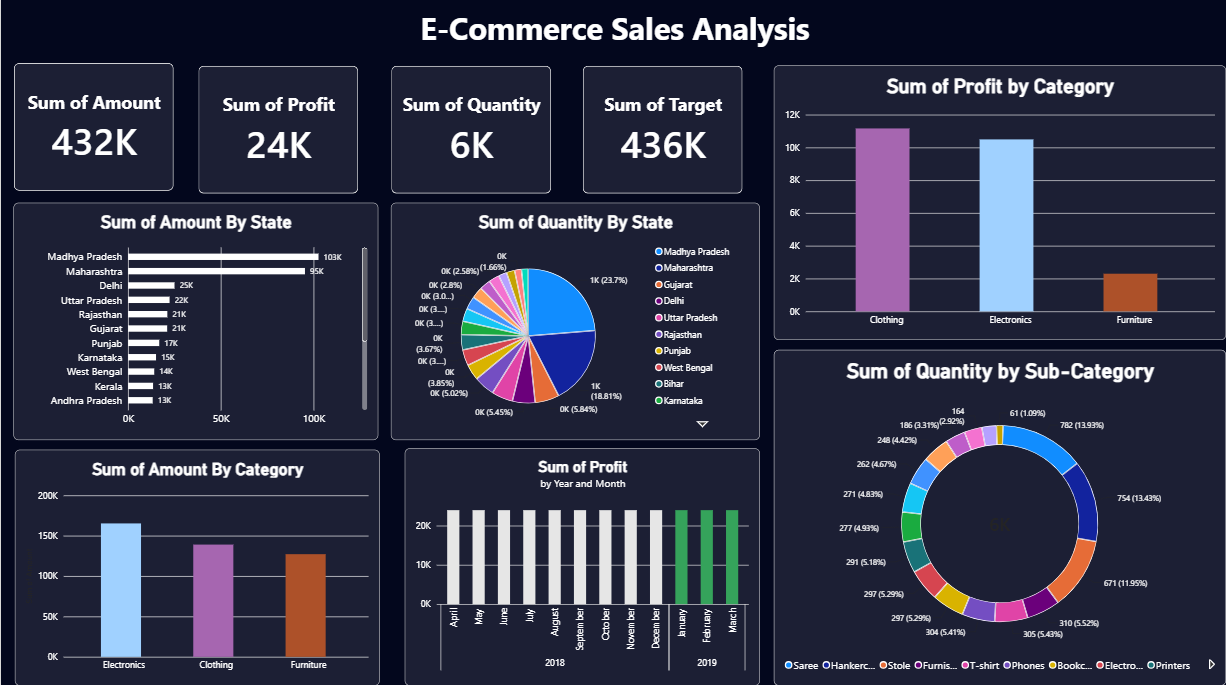

This screenshot's page, from the dashboard's own definition file:
{"tool":"powerbi","page":{"name":"Page 2","canvas":[1920,1080],"ordinal":1},"visuals":[{"type":"cardVisual","fields":{"Data":["Sum(Order Details cleaned.Amount)"]},"box":[19.6,104.3,252.2,202.2],"z":0},{"type":"cardVisual","fields":{"Data":["Sum(Order Details cleaned.Profit)"]},"box":[308.7,108.7,252.2,202.2],"z":1000},{"type":"cardVisual","fields":{"Data":["Sum(Order Details cleaned.Quantity)"]},"box":[610.9,108.7,252.2,202.2],"z":2000},{"type":"clusteredBarChart","title":"Sum of Amount By State","fields":{"Category":["Order Details cleaned.State"],"Y":["Sum(Order Details cleaned.Amount)"]},"box":[19.6,323.9,571.7,371.7],"z":3000},{"type":"clusteredColumnChart","title":"Sum of Amount By Category","fields":{"Category":["Order Details cleaned.Category"],"Y":["Sum(Order Details cleaned.Amount)"]},"box":[21.7,710.9,571.7,369.6],"z":4000},{"type":"donutChart","fields":{"Y":["Sum(Order Details cleaned.Quantity)"],"Category":["Order Details cleaned.Sub-Category"]},"box":[1210.9,554.3,708.7,526.1],"z":5000},{"type":"clusteredColumnChart","fields":{"Category":["Sales target Cleaned.Category"],"Y":["Sum(Order Details cleaned.Profit)"]},"box":[1210.9,108.7,708.7,430.4],"z":6000},{"type":"clusteredColumnChart","fields":{"Y":["Sum(Order Details cleaned.Profit)"],"Category":["Sales target Cleaned.Order_Month.Variation.Date Hierarchy.Year","Sales target Cleaned.Order_Month.Variation.Date Hierarchy.Month"]},"box":[632.6,708.7,556.5,371.7],"z":7000},{"type":"pieChart","title":"Sum of Quantity By State","fields":{"Y":["Sum(Order Details cleaned.Quantity)"],"Category":["lists of orders cleaned.State"]},"box":[610.9,323.9,578.3,371.7],"z":8000},{"type":"cardVisual","fields":{"Data":["Sum(Sales target Cleaned.Target)"]},"box":[910.9,108.7,252.2,202.2],"z":9000},{"type":"textbox","box":[100,17.4,1723.9,87],"z":10000}]}

Visuals, with their boxes in screenshot pixels (x1, y1, x2, y2), scaled from the page's 1920x1080 canvas onto the 1226x685 screenshot:
cardVisual - Sum(Order Details cleaned.Amount): 13 66 174 194
cardVisual - Sum(Order Details cleaned.Profit): 197 69 358 197
cardVisual - Sum(Order Details cleaned.Quantity): 390 69 551 197
"Sum of Amount By State" clusteredBarChart: 13 205 378 441
"Sum of Amount By Category" clusteredColumnChart: 14 451 379 684
donutChart - Sum(Order Details cleaned.Quantity) x Order Details cleaned.Sub-Category: 773 352 1225 684
clusteredColumnChart - Sales target Cleaned.Category x Sum(Order Details cleaned.Profit): 773 69 1225 342
clusteredColumnChart - Sum(Order Details cleaned.Profit) x Sales target Cleaned.Order_Month.Variation.Date Hierarchy.Year: 404 449 759 684
"Sum of Quantity By State" pieChart: 390 205 759 441
cardVisual - Sum(Sales target Cleaned.Target): 582 69 743 197
textbox: 64 11 1165 66
